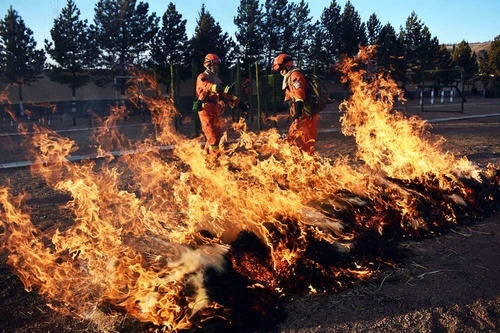fire: (35, 47, 492, 313), (335, 42, 498, 230)
